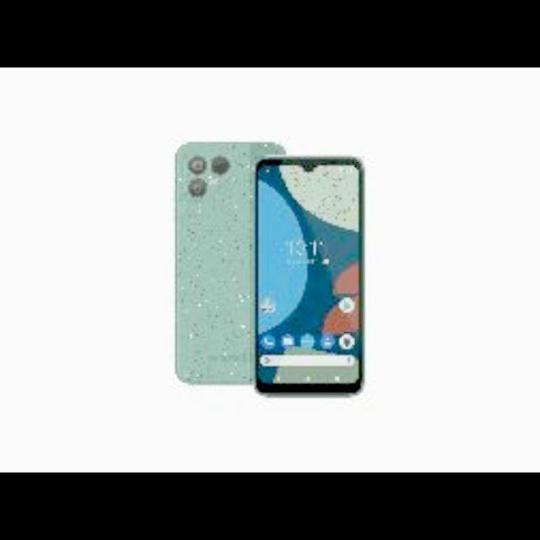phone: (254, 156, 369, 400), (171, 143, 286, 386)
